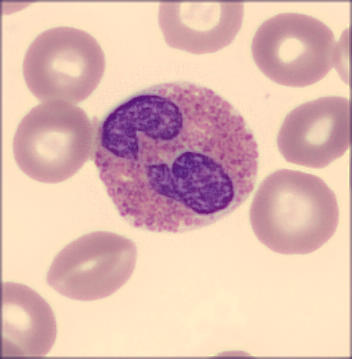EO: (92, 78, 260, 232)
RBC: (249, 168, 341, 258), (22, 26, 108, 107), (12, 103, 98, 184), (249, 12, 337, 88), (47, 229, 137, 302), (274, 94, 352, 171), (155, 1, 242, 57), (1, 281, 56, 357), (331, 31, 351, 89)
